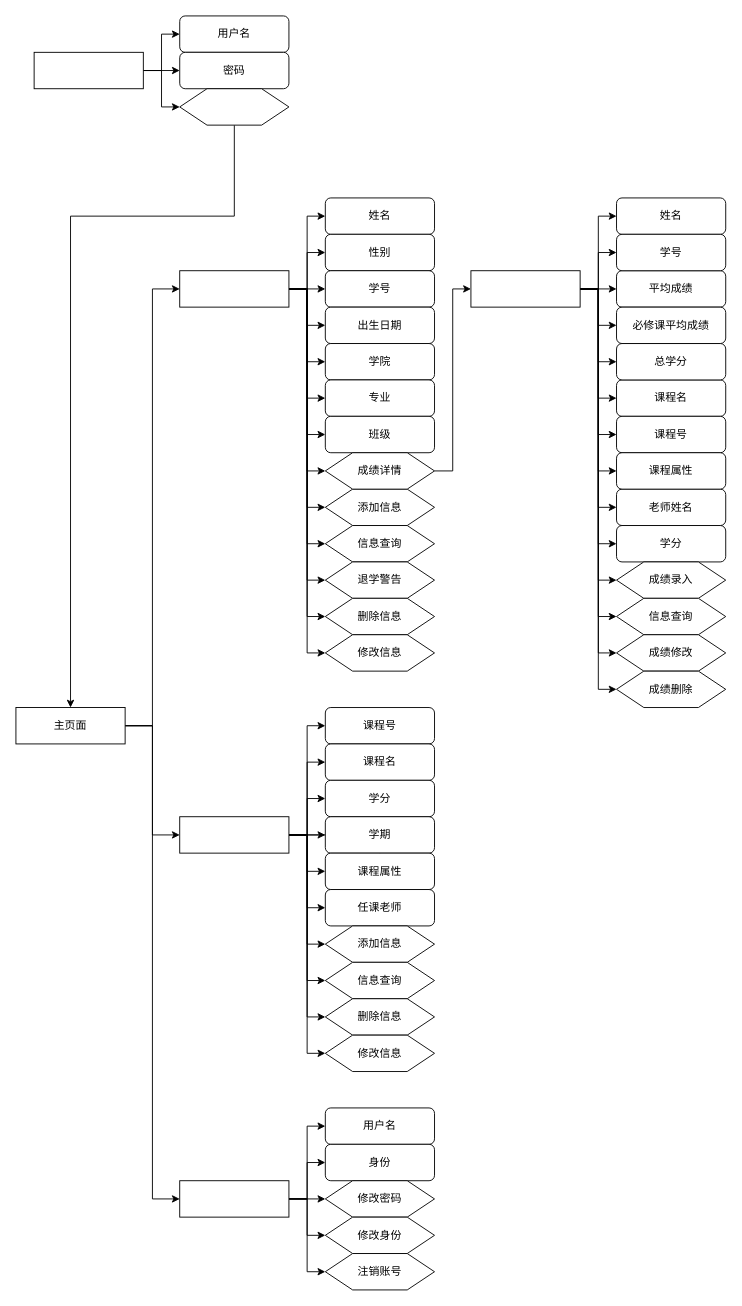
This 742x1306 diagram has some shape labels left out. Here are the shapes that lost their labels. From the top down, the centre of each, then its label:
the point at 88,70: 登录页面
the point at 234,106: 登陆
the point at 234,288: 学生信息管理
the point at 525,288: 单个学生信息
the point at 234,834: 课程信息管理
the point at 234,1198: 用户管理界面
